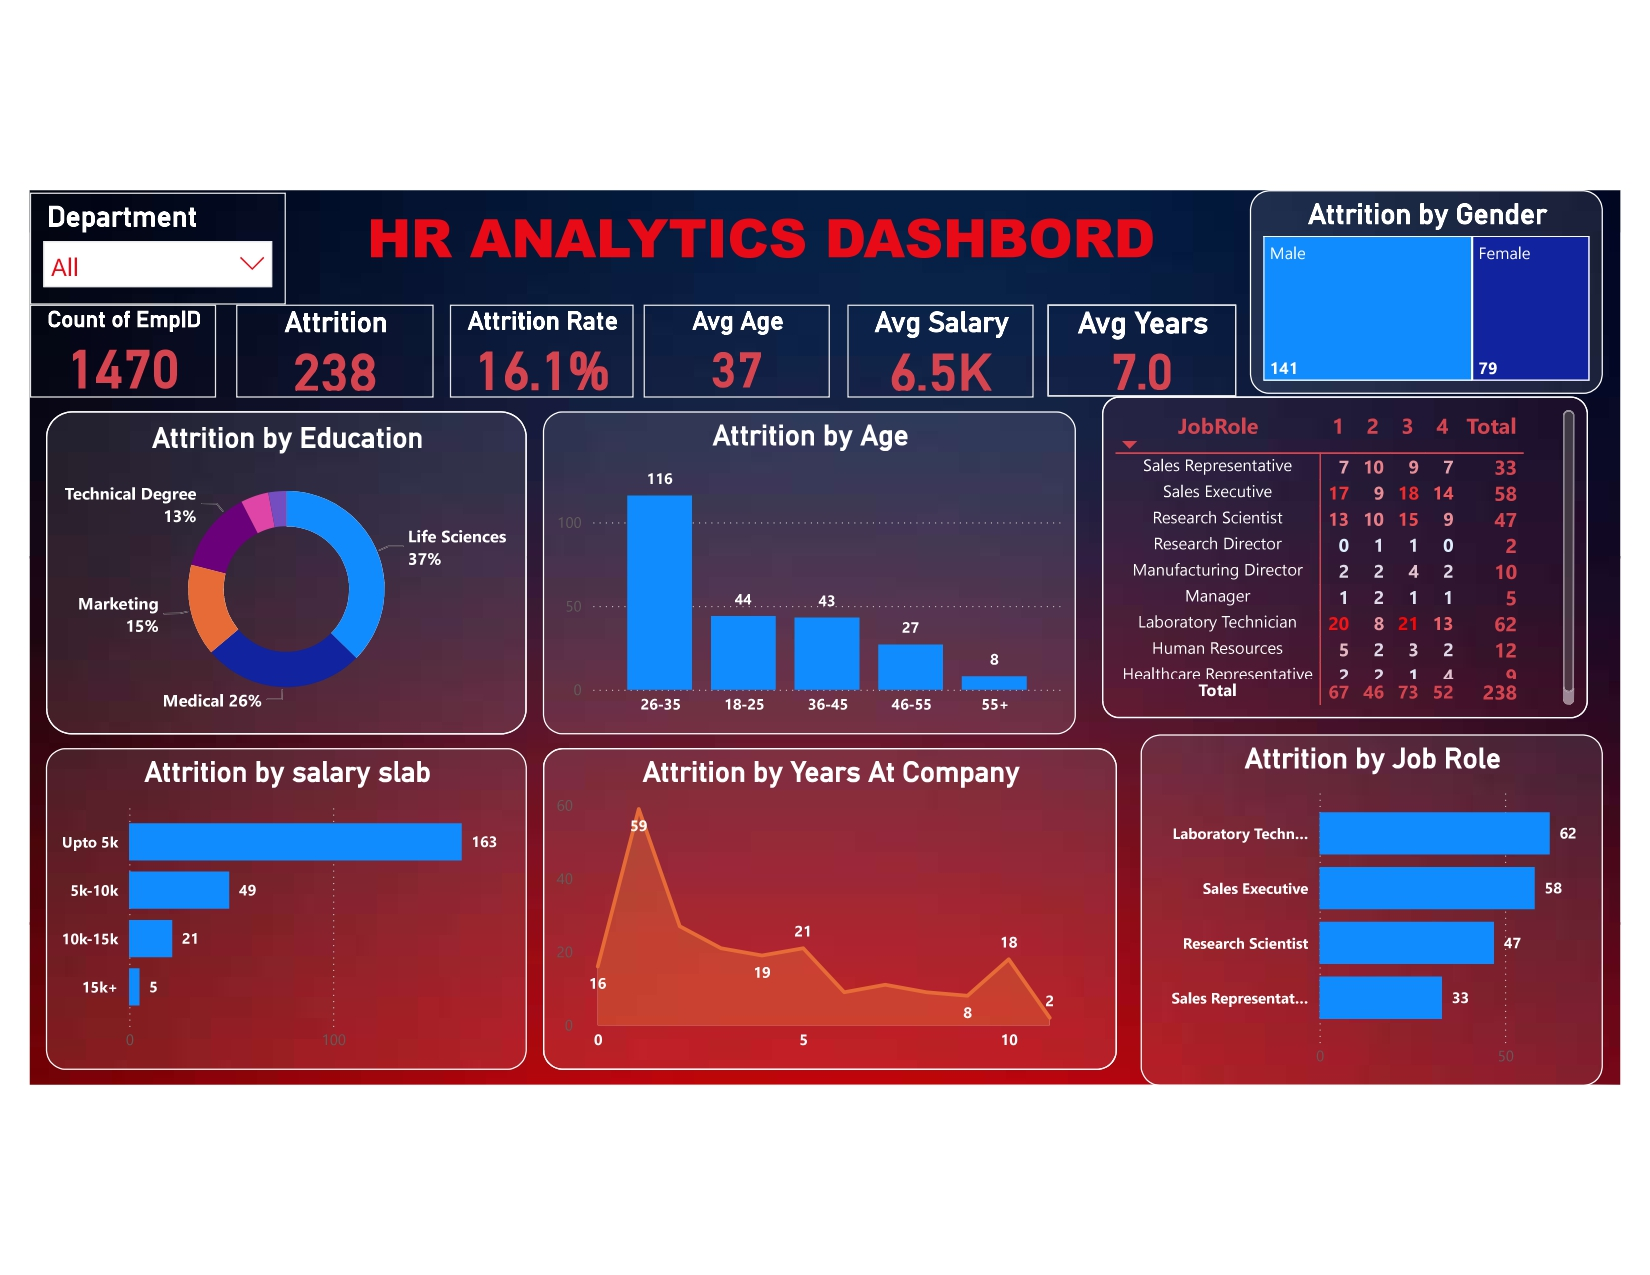

Layout of this report page (visuals, bound fields, positions):
{"tool":"powerbi","page":{"name":"Page 1","canvas":[1280,720],"ordinal":0},"visuals":[{"type":"card","title":"Count of EmpID","fields":{"Values":["Count(HR_Analytics.EmpID)"]},"box":[0,92.2,150,75],"z":0},{"type":"card","title":"Attrition","fields":{"Values":["Sum(HR_Analytics.AttritionCount)"]},"box":[165.7,92.2,159.4,75],"z":1000},{"type":"card","title":"Attrition Rate ","fields":{"Values":["HR_Analytics.AttritionRate"]},"box":[337.6,92.2,148.5,75],"z":2000},{"type":"card","title":"Avg Age","fields":{"Values":["Avg(HR_Analytics.Age)"]},"box":[493.9,92.2,150,75],"z":3000},{"type":"card","title":"Avg Salary ","fields":{"Values":["Avg(HR_Analytics.MonthlyIncome)"]},"box":[658,92.2,150,75],"z":4000},{"type":"card","title":"Avg Years","fields":{"Values":["Avg(HR_Analytics.YearsAtCompany)"]},"box":[819,92.2,151.6,73.5],"z":5000},{"type":"donutChart","title":"Attrition by Education ","fields":{"Category":["HR_Analytics.EducationField"],"Y":["Sum(HR_Analytics.AttritionCount)"]},"box":[12.5,178.2,387.6,259.5],"z":6000},{"type":"columnChart","title":"Attrition by Age ","fields":{"Category":["HR_Analytics.AgeGroup"],"Y":["Sum(HR_Analytics.AttritionCount)"]},"box":[412.6,178.2,429.8,259.5],"z":7000},{"type":"pivotTable","title":"j","fields":{"Rows":["HR_Analytics.JobRole"],"Columns":["HR_Analytics.JobSatisfaction"],"Values":["Sum(HR_Analytics.AttritionCount)"]},"box":[862.8,165.7,390.7,259.5],"z":8000},{"type":"barChart","title":"Attrition by salary slab","fields":{"Category":["HR_Analytics.SalarySlab"],"Y":["Sum(HR_Analytics.AttritionCount)"]},"box":[12.5,448.6,387.6,259.5],"z":9000},{"type":"barChart","title":"Attrition by Job Role ","fields":{"Category":["HR_Analytics.JobRole","HR_Analytics.YearsAtCompany"],"Y":["Sum(HR_Analytics.AttritionCount)"]},"box":[894,437.6,372,282.9],"z":10000},{"type":"areaChart","title":"Attrition by Years At Company  ","fields":{"Category":["HR_Analytics.YearsAtCompany"],"Y":["Sum(HR_Analytics.AttritionCount)"]},"box":[412.6,448.6,462.6,259.5],"z":11000},{"type":"treemap","title":"Attrition by Gender","fields":{"Group":["HR_Analytics.Gender"],"Values":["Sum(HR_Analytics.AttritionCount)"]},"box":[981.6,0,284.5,164.1],"z":11001},{"type":"slicer","fields":{"Values":["HR_Analytics.Department"]},"box":[0,1.6,206.3,90.7],"z":11002},{"type":"textbox","box":[206.3,1.6,764.3,81.3],"z":11003}]}

Visuals, with their boxes in screenshot pixels (x1, y1, x2, y2):
"Count of EmpID" card: left=9, top=302, right=199, bottom=397
"Attrition" card: left=219, top=302, right=422, bottom=397
"Attrition Rate " card: left=438, top=302, right=627, bottom=397
"Avg Age" card: left=636, top=302, right=827, bottom=397
"Avg Salary " card: left=845, top=302, right=1036, bottom=397
"Avg Years" card: left=1050, top=302, right=1242, bottom=395
"Attrition by Education " donutChart: left=24, top=411, right=517, bottom=741
"Attrition by Age " columnChart: left=533, top=411, right=1079, bottom=741
"j" pivotTable: left=1105, top=395, right=1602, bottom=725
"Attrition by salary slab" barChart: left=24, top=755, right=517, bottom=1085
"Attrition by Job Role " barChart: left=1145, top=741, right=1618, bottom=1101
"Attrition by Years At Company  " areaChart: left=533, top=755, right=1121, bottom=1085
"Attrition by Gender" treemap: left=1256, top=185, right=1618, bottom=393
slicer - HR_Analytics.Department: left=9, top=187, right=271, bottom=302
textbox: left=271, top=187, right=1242, bottom=290
